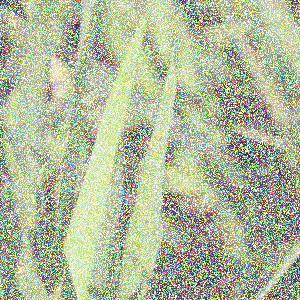Brown_Spot: (134, 142, 160, 168), (148, 120, 174, 146)
